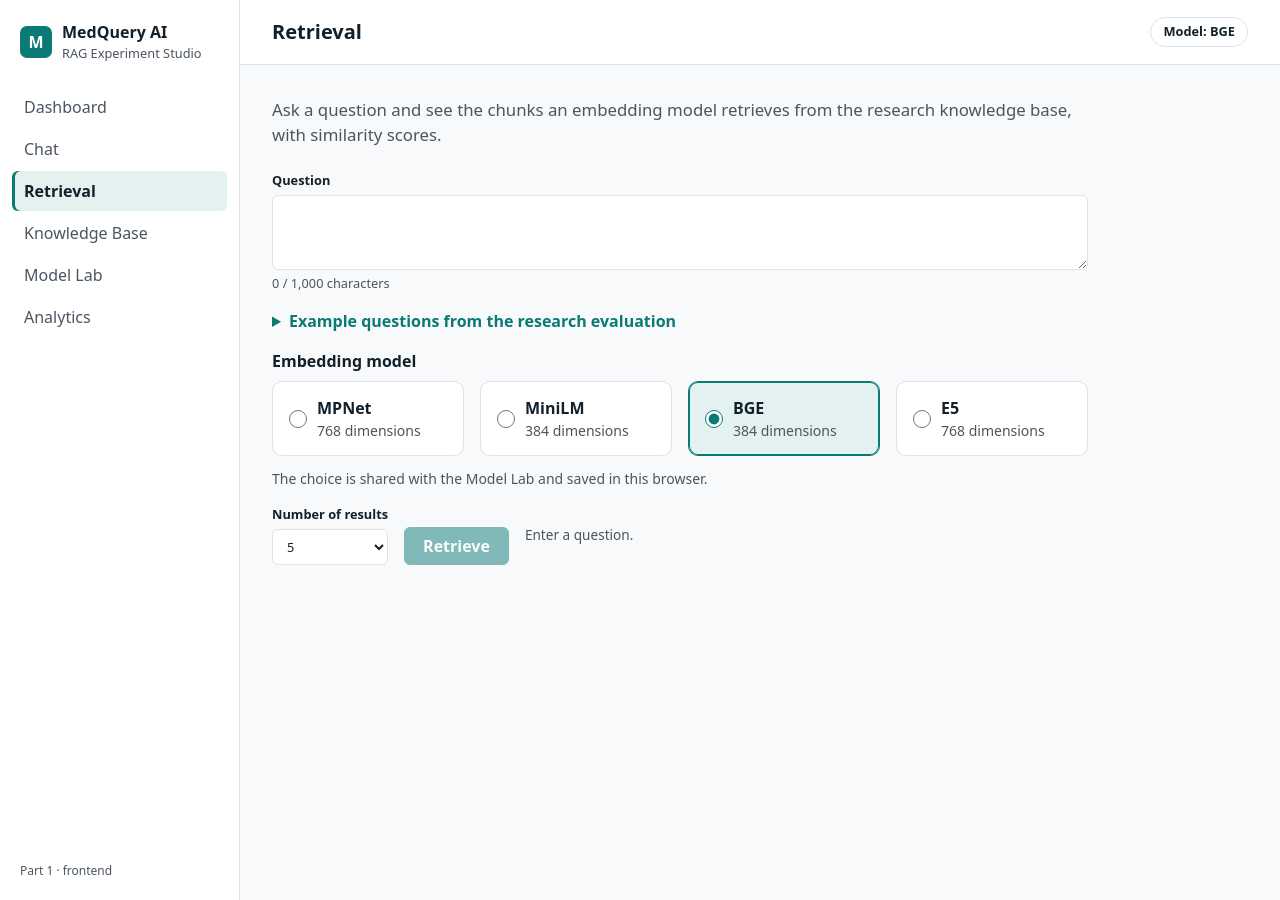
Test: Retrieval form › fills the question from an example without searching
Click the heading "Example questions from the research evaluation": (474, 321) 272,309 -> 676,333
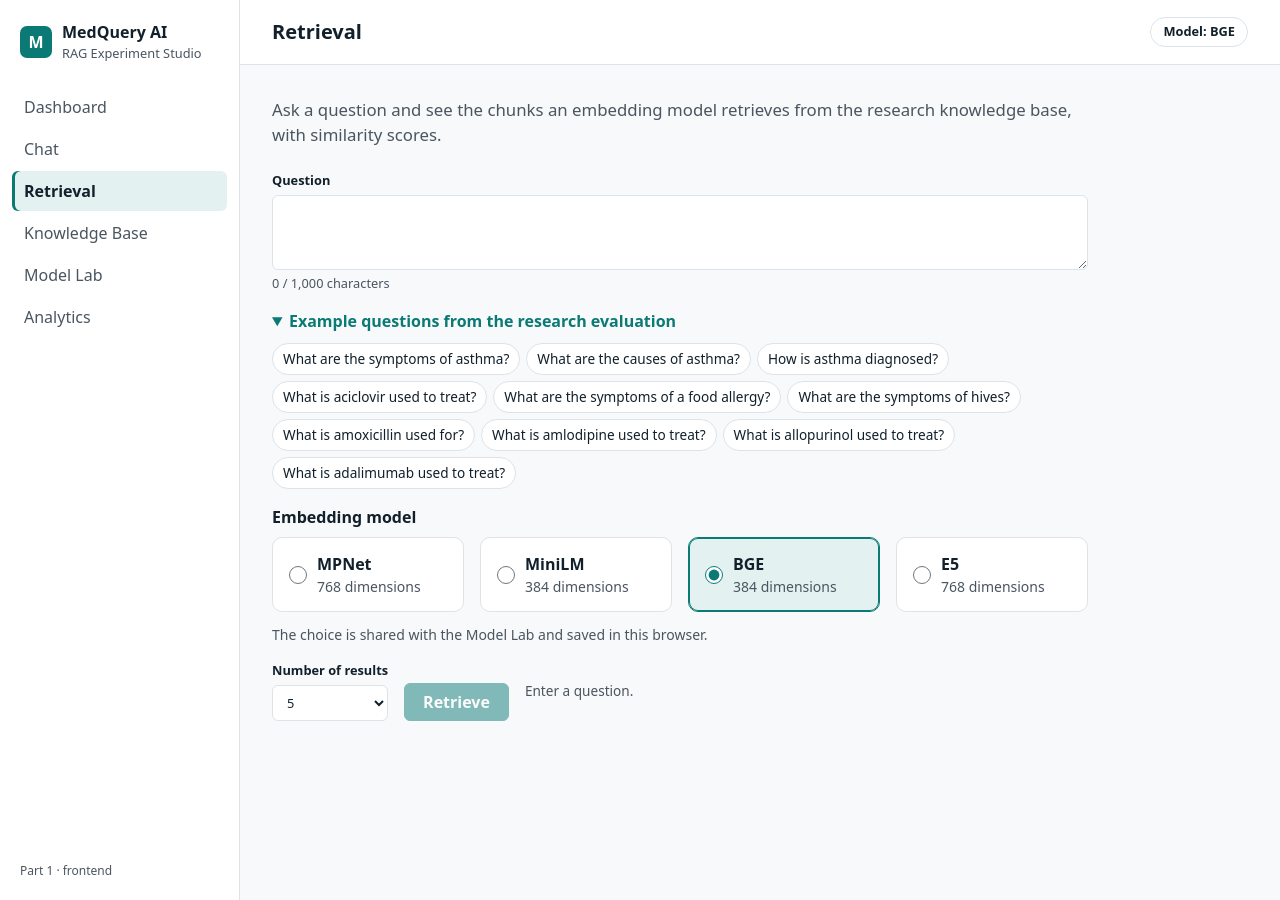
Click the button "What are the symptoms of hives?": (904, 397) 787,381 -> 1021,413
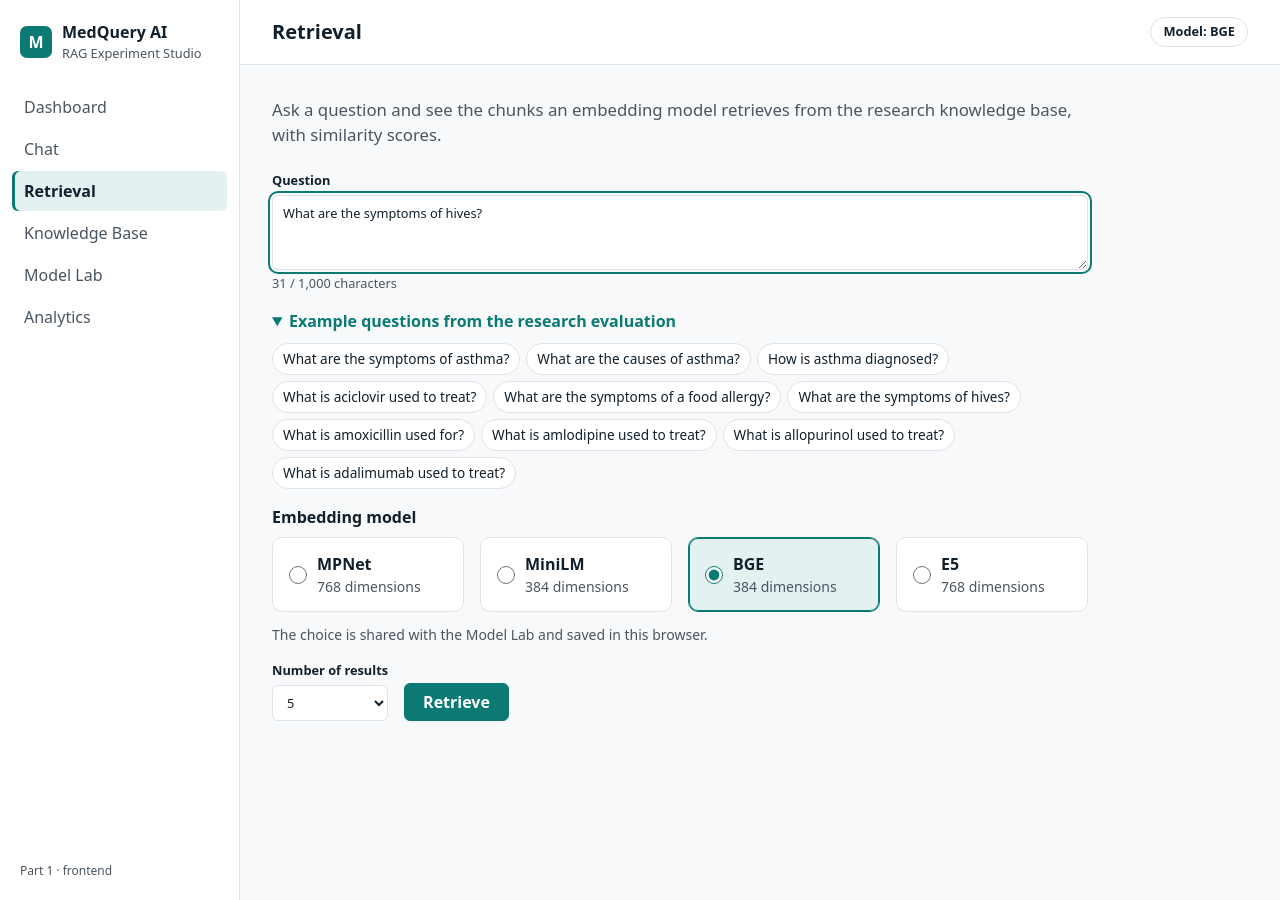
Expected: the text box labelled "Question" holds "What are the symptoms of hives?", 272,195 -> 1088,270
